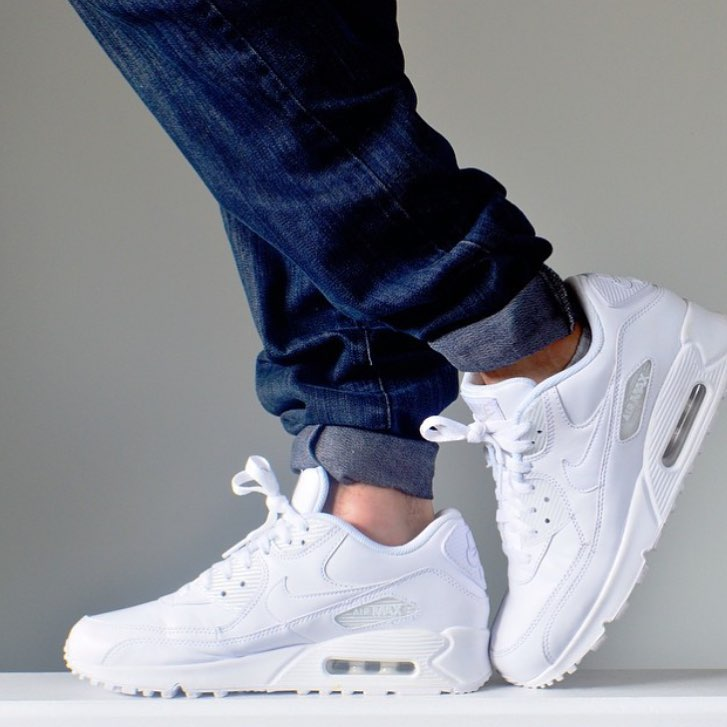sneaker: (434, 245, 727, 704), (42, 435, 503, 714)
